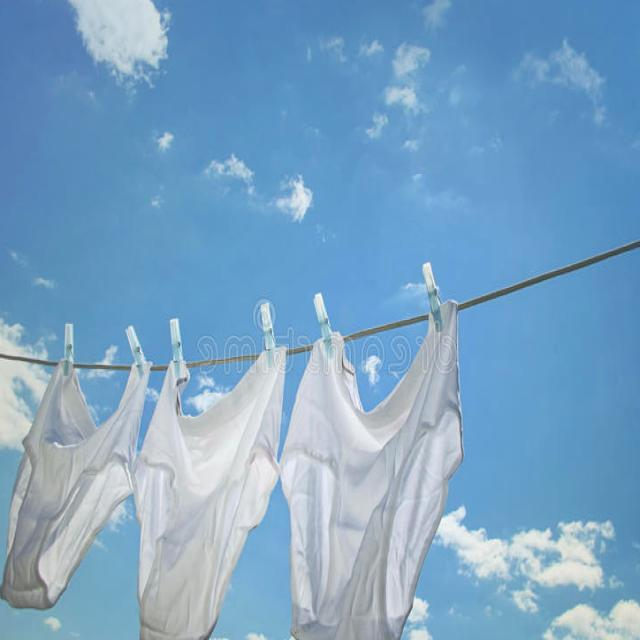clothes: (1, 326, 476, 640)
